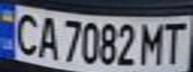0: (78, 18, 100, 65)
2: (115, 20, 139, 68)
7: (57, 16, 81, 64)
8: (100, 19, 121, 67)
A: (33, 11, 60, 60)
C: (9, 9, 42, 57)
M: (139, 19, 169, 66)
T: (157, 18, 190, 65)
